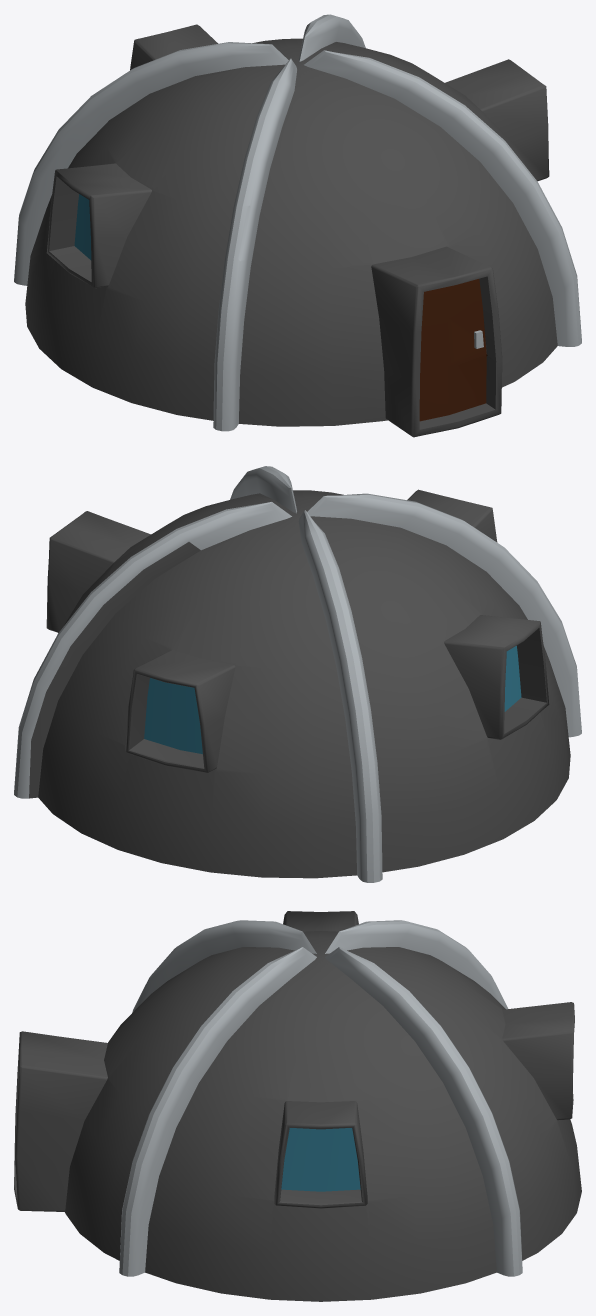
Rendered from FoldOutTent 2.FBX.
3 views of the same model, one above another, from view 1: azimuth 30°, elevation 25°; view 2: azimuth 150°, elevation 25°; view 3: azimuth 270°, elevation 25° (orthographic). The views are drawn at different scales.
Visible parts, largest first — view 1: Sphere001; view 2: Sphere001; view 3: Sphere001.
Part boxes in pixels (left/top/right/bottom): Sphere001: left=14, top=14, right=581, bottom=437; Sphere001: left=14, top=466, right=581, bottom=882; Sphere001: left=14, top=911, right=581, bottom=1301.
Size of the model in its own units: 8.51 by 4.54 by 9.26.
